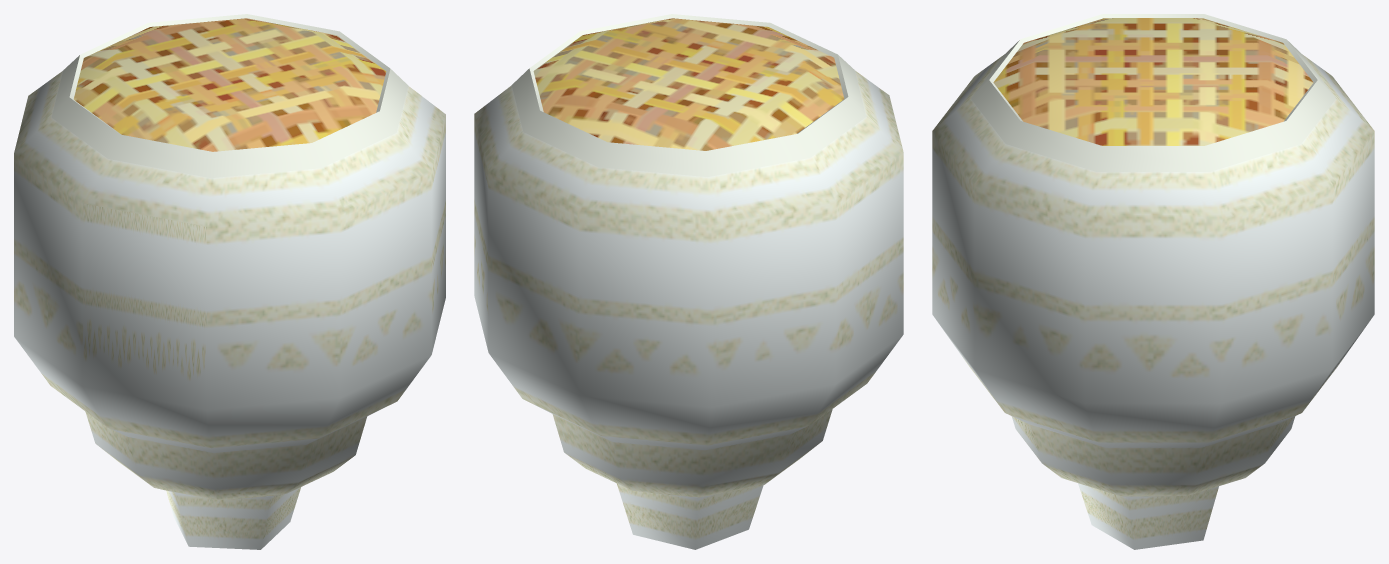
The model's file is WaterPlatformBounceCollision.obj.
3 views of the same model, side by side, from view 1: azimuth 30°, elevation 25°; view 2: azimuth 150°, elevation 25°; view 3: azimuth 270°, elevation 25° (orthographic).
Size of the model in its own units: 80.24 by 96.29 by 84.37.
Materials: 2 (2 with a texture image).
